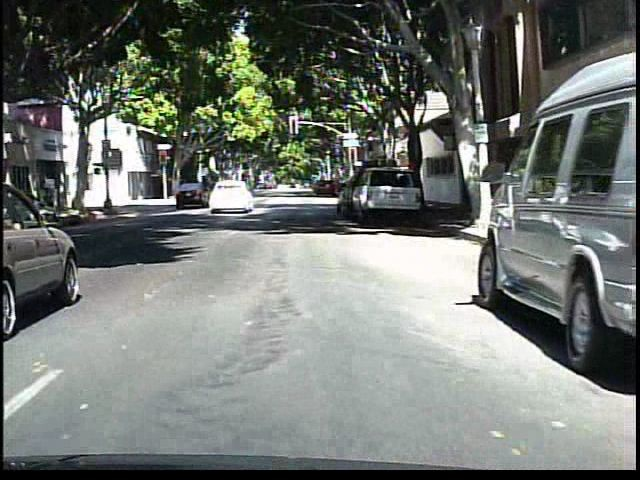person: (210, 170, 233, 210)
